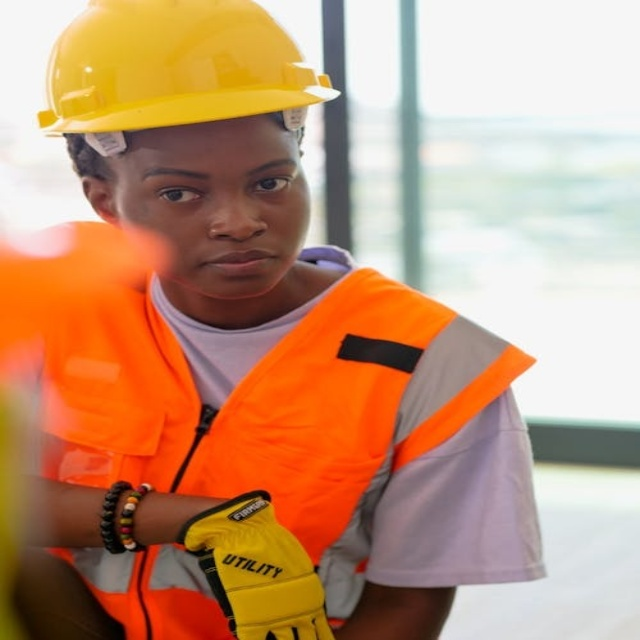Guantes: (177, 492, 340, 639)
Sin_gafas: (129, 164, 305, 214)
Sin_mascara: (188, 249, 285, 294)
